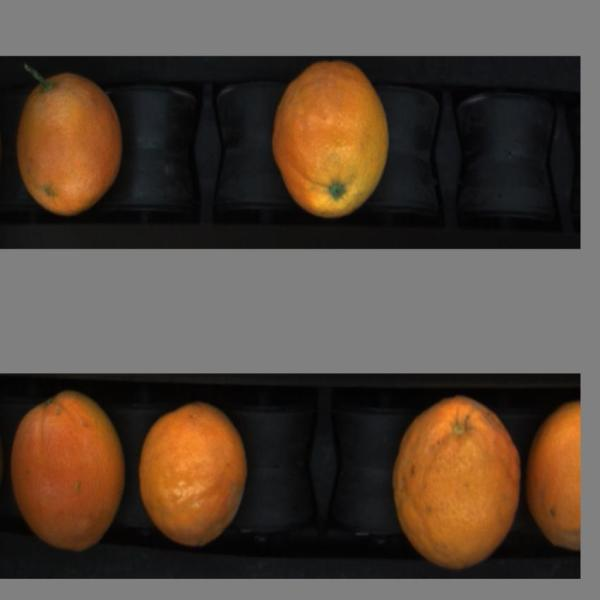Otros defectos: (386, 388, 524, 568), (6, 386, 131, 556)
Sana: (266, 64, 394, 218), (136, 397, 257, 559), (14, 69, 133, 216), (528, 396, 581, 548)
